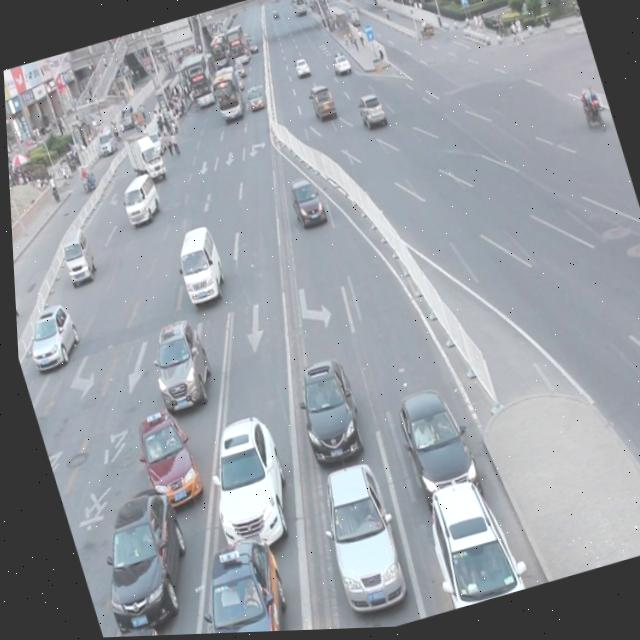car: (73, 479, 201, 638), (301, 455, 408, 621), (185, 408, 299, 560), (408, 471, 519, 614), (168, 527, 296, 636), (385, 381, 479, 512), (280, 354, 367, 472), (124, 404, 202, 515), (135, 313, 216, 417), (15, 299, 83, 375), (282, 175, 324, 233), (94, 619, 169, 638)
truck: (165, 223, 227, 307), (114, 173, 162, 229), (53, 225, 96, 285)
